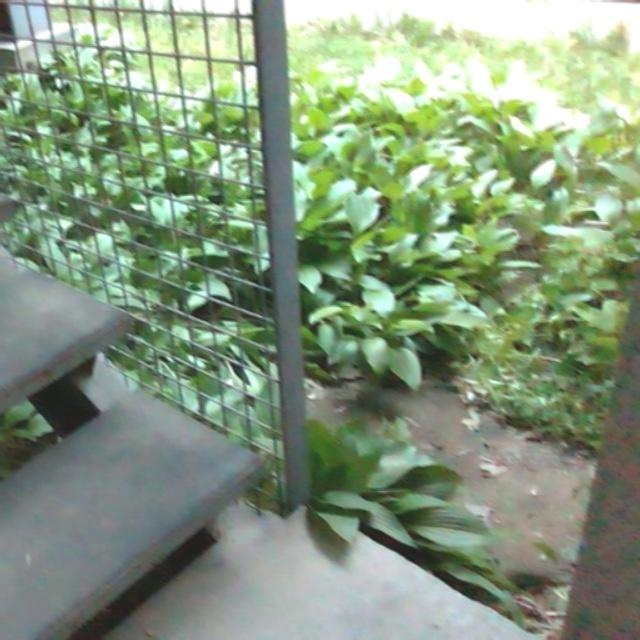stair: (2, 263, 265, 640)
